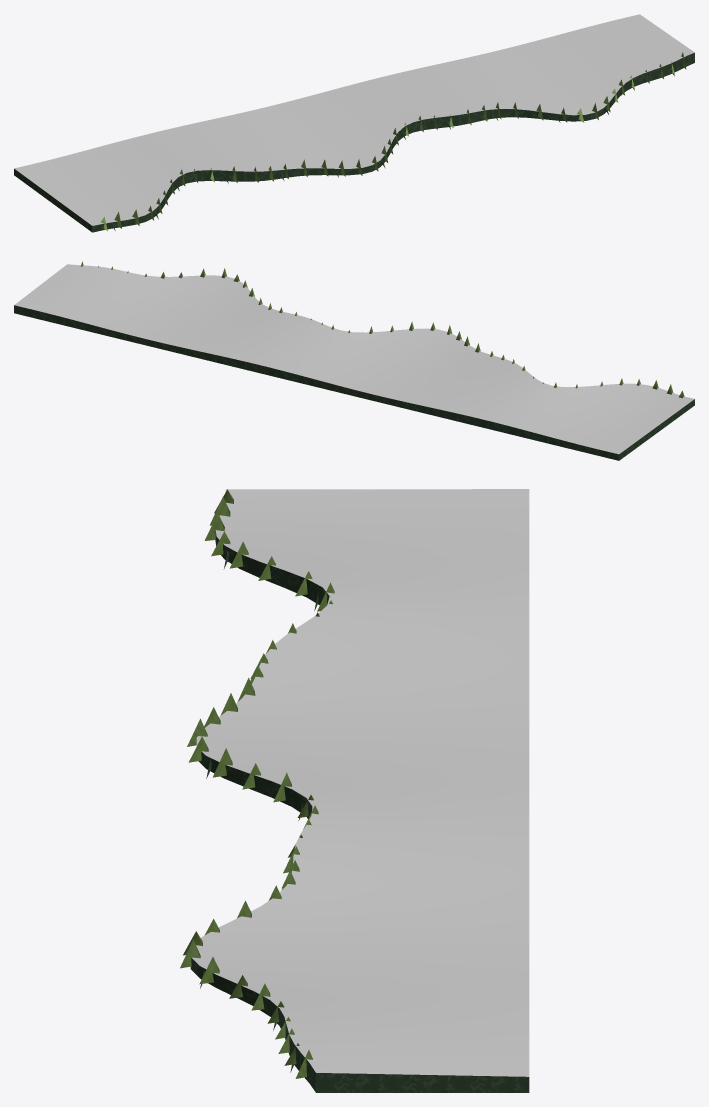
The model's file is Furn_Cliff2_Top.fbx.
3 renders of one model, top to bottom at view 1: azimuth 30°, elevation 25°; view 2: azimuth 150°, elevation 25°; view 3: azimuth 270°, elevation 25°, orthographic. The views are drawn at different scales.
Visible parts, largest first — view 1: Furn_Cliff2_Top; view 2: Furn_Cliff2_Top; view 3: Furn_Cliff2_Top.
Boxes of the visible parts, left/top/right/bottom form: Furn_Cliff2_Top: left=14, top=14, right=694, bottom=232; Furn_Cliff2_Top: left=14, top=261, right=694, bottom=460; Furn_Cliff2_Top: left=180, top=489, right=529, bottom=1092.
Size of the model in its own units: 10 by 0.2877 by 2.5.
